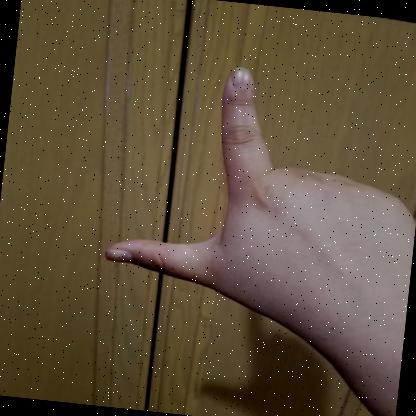L: (105, 66, 415, 353)
